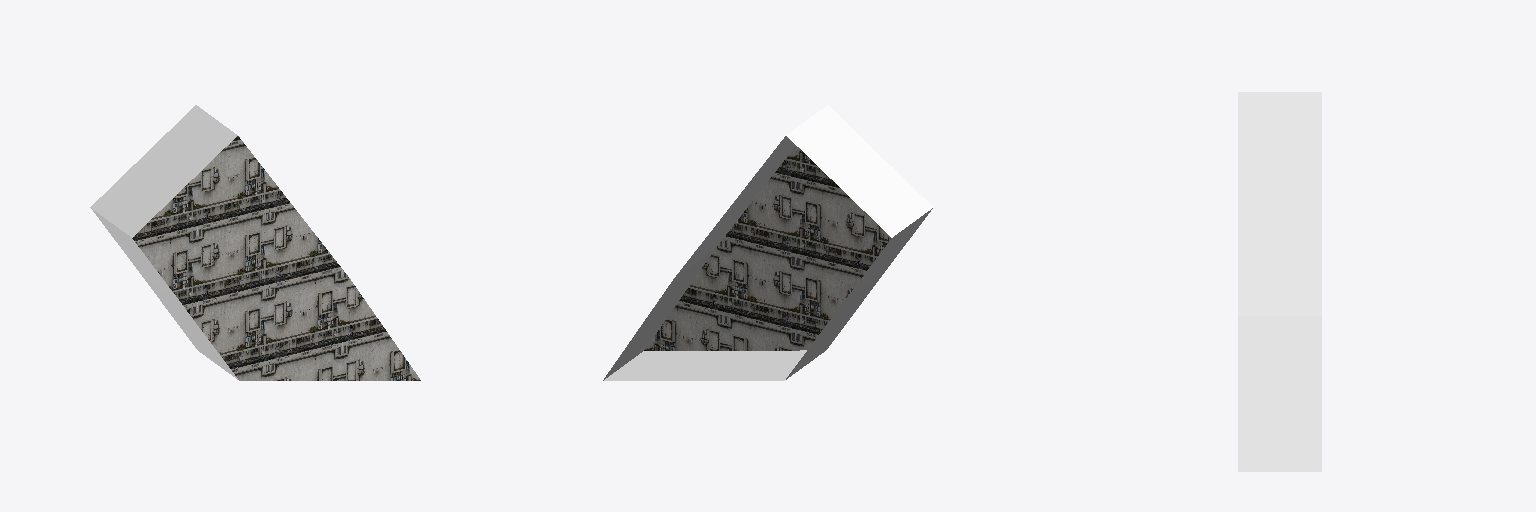
3 views of the same model, side by side, from view 1: azimuth 30°, elevation 25°; view 2: azimuth 150°, elevation 25°; view 3: azimuth 270°, elevation 25° (orthographic).
Visible parts, largest first — view 1: Building; view 2: Building; view 3: Building.
Part boxes in pixels (x1,y1,x2,y2): Building: (90, 105, 420, 380); Building: (603, 105, 933, 380); Building: (1238, 92, 1321, 471).
Bounding box in the file's own units: 11.98 × 11.5 × 3.
2 materials, 1 textured.